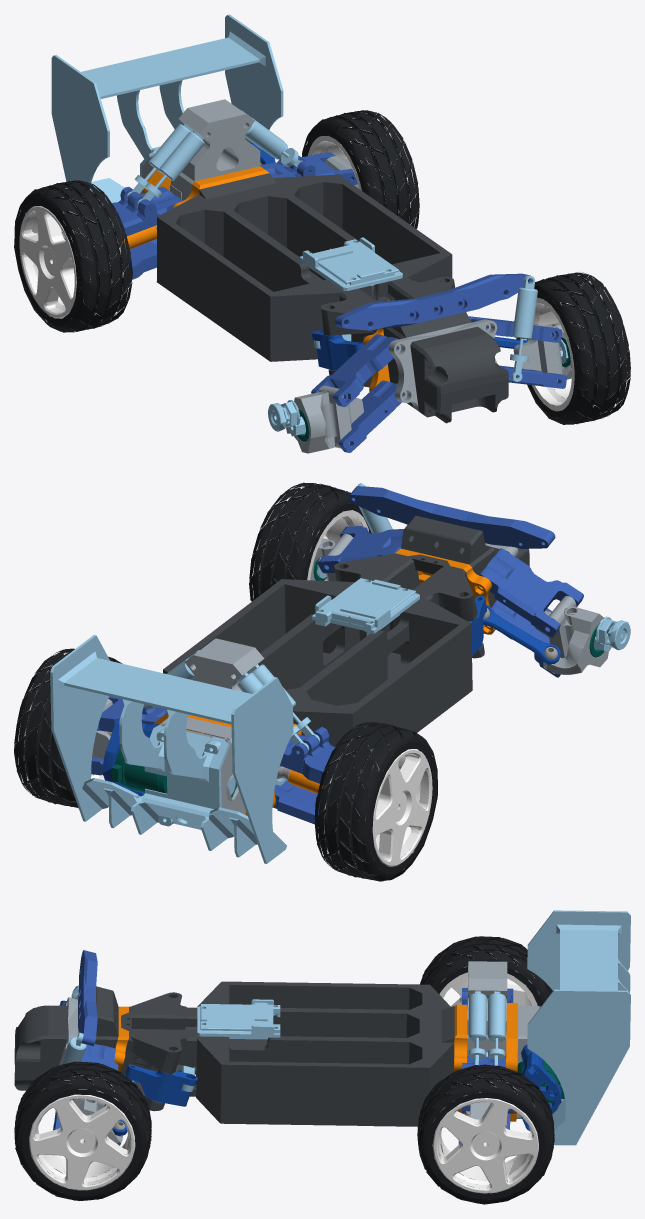
The model's file is car.glb.
The picture shows the model from 3 angles, top to bottom: view 1: azimuth 30°, elevation 25°; view 2: azimuth 150°, elevation 25°; view 3: azimuth 270°, elevation 25°; orthographic projection. The views are drawn at different scales.
Parts seen in each view (by area): view 1: rc display assembly; view 2: rc display assembly; view 3: rc display assembly.
Boxes of the visible parts, bbox=[...] form: rc display assembly: bbox=[14, 14, 630, 453]; rc display assembly: bbox=[14, 482, 630, 881]; rc display assembly: bbox=[14, 910, 630, 1204].
Bounding box in the file's own units: 0.2808 × 0.1579 × 0.4806.
